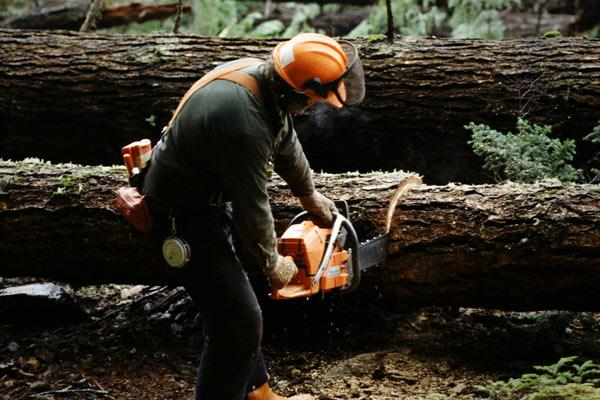person: (139, 31, 345, 400)
